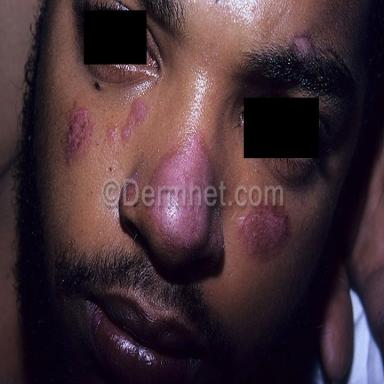Lupus-Erythematosus-Chronicus-Discoides: (152, 138, 213, 188), (150, 205, 210, 247), (241, 207, 289, 258), (66, 108, 91, 162), (121, 101, 146, 142), (293, 35, 316, 56)
